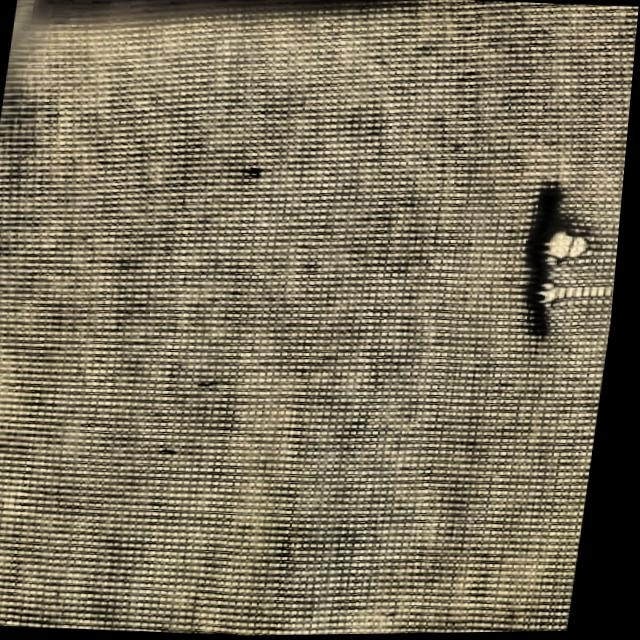Hole: (522, 209, 608, 274)
Stitch: (524, 269, 617, 321)
